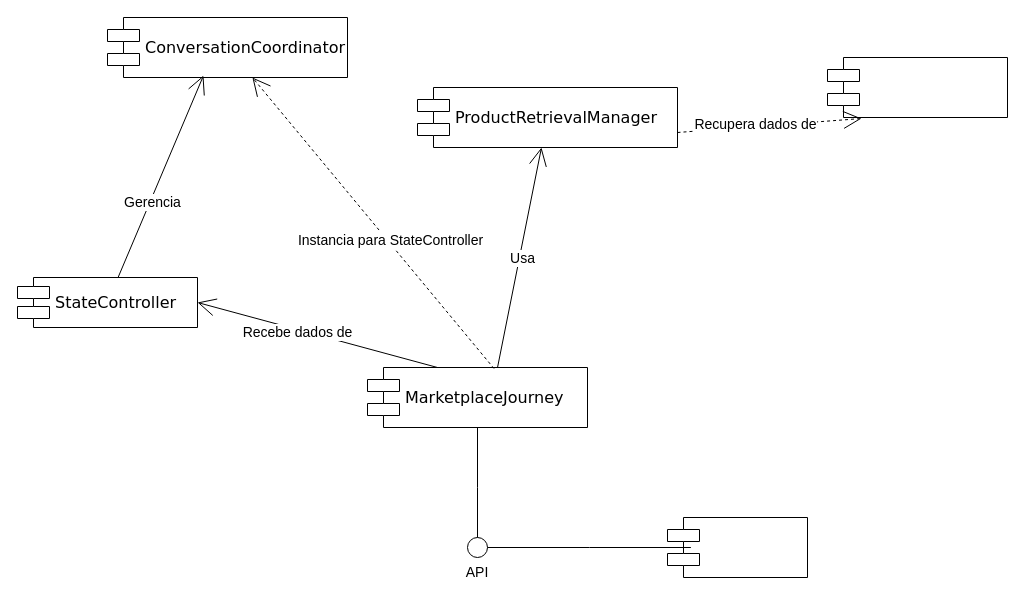
Image size: 1025x605. Some labels were removed from this diagram. The centre of each missing label's shape, as x and y in pixels:
Vector Database: the point at 917,87
Web page: the point at 737,547
